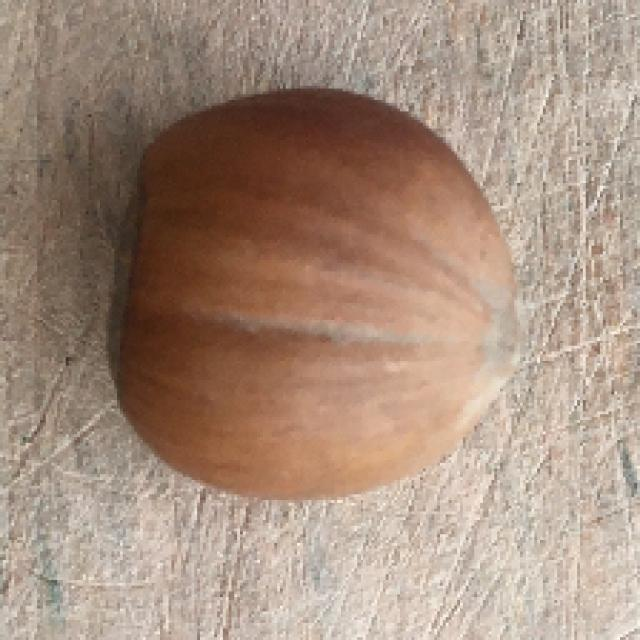damagedHazelnut: (109, 91, 529, 505)
